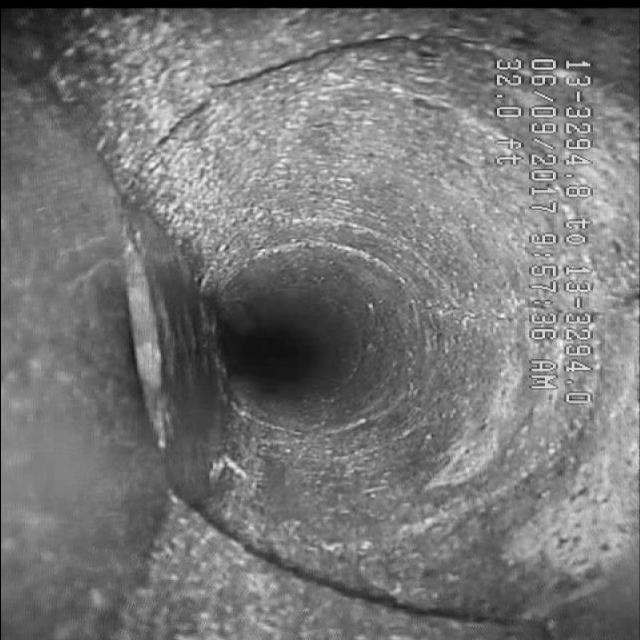Crack: (206, 17, 436, 115)
